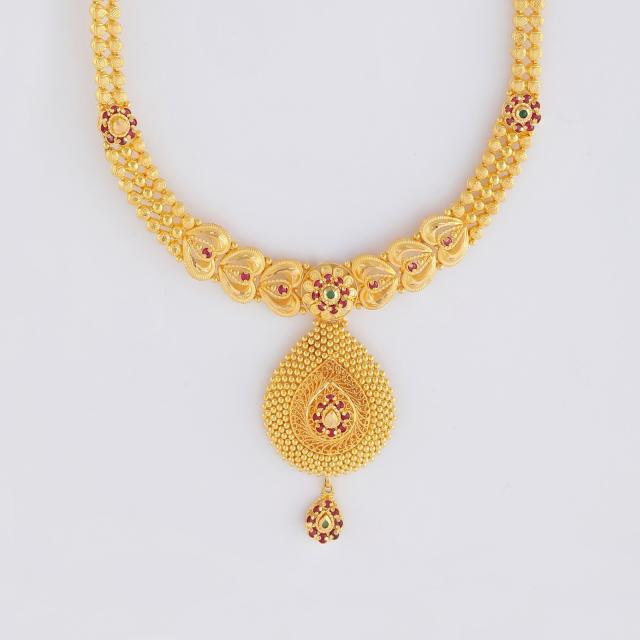missing gem: (325, 410, 338, 427), (116, 123, 125, 132)
